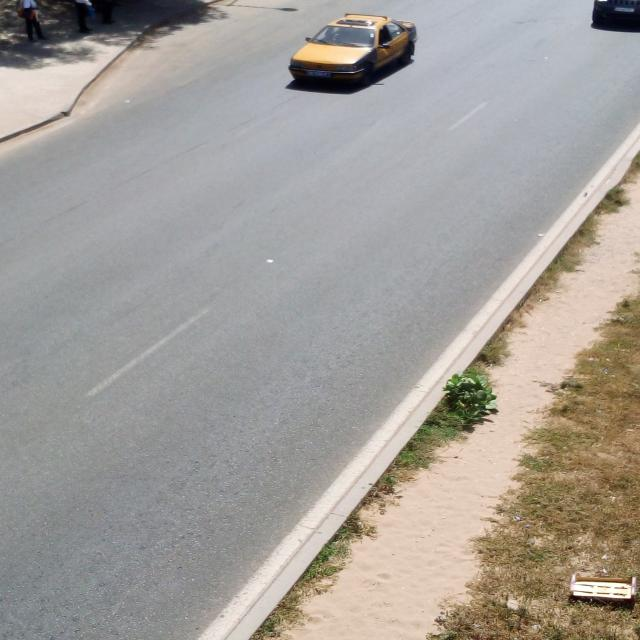taxi: (291, 15, 418, 85)
